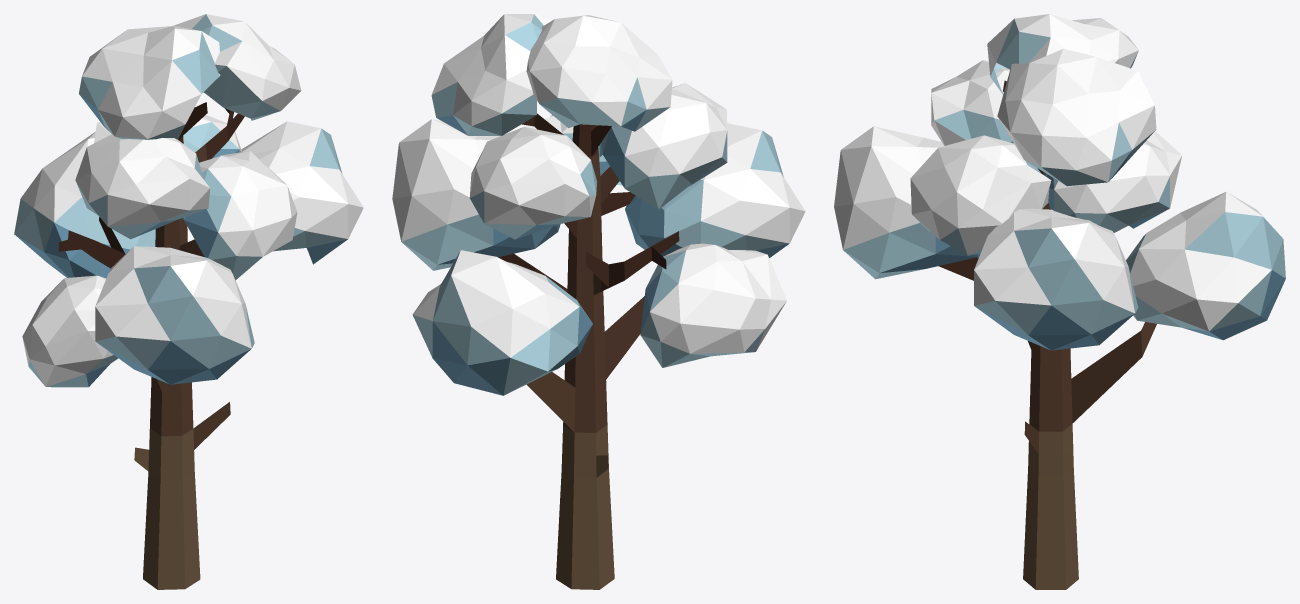
Rendered from treeOak1.fbx.
3 renders of one model, left to right at view 1: azimuth 30°, elevation 25°; view 2: azimuth 150°, elevation 25°; view 3: azimuth 270°, elevation 25°, orthographic. The views are drawn at different scales.
Visible parts, largest first — view 1: bushLarge_1, treeBase, bushTop_1, bushMedium, bushMedium_3, bushLarge, bushLarge_2, bushMedium_1, bushTop, bushMedium_2; view 2: treeBase, bushLarge_2, bushMedium_1, bushLarge_1, bushTop_1, bushLarge, bushMedium_2, bushMedium, bushTop; view 3: bushLarge, bushLarge_2, bushTop, treeBase, bushLarge_1, bushMedium_3, bushMedium_2, bushTop_1, bushMedium.
Boxes of the visible parts, x1,y1,x2,y2 form: bushLarge_1: (95, 246, 254, 384); treeBase: (58, 102, 244, 589); bushTop_1: (79, 26, 220, 139); bushMedium: (75, 134, 210, 239); bushMedium_3: (180, 151, 297, 280); bushLarge: (241, 121, 363, 264); bushLarge_2: (14, 132, 155, 278); bushMedium_1: (22, 275, 118, 387); bushTop: (173, 14, 301, 120); bushMedium_2: (94, 115, 241, 158); treeBase: (498, 113, 679, 589); bushLarge_2: (412, 250, 592, 395); bushMedium_1: (640, 243, 786, 367); bushLarge_1: (625, 123, 805, 257); bushTop_1: (526, 15, 672, 131); bushLarge: (392, 119, 560, 270); bushMedium_2: (469, 126, 596, 239); bushMedium: (599, 83, 727, 209); bushTop: (431, 14, 551, 135); bushLarge: (974, 208, 1138, 350); bushLarge_2: (1126, 191, 1285, 340); bushTop: (997, 48, 1156, 186); treeBase: (938, 80, 1156, 589); bushLarge_1: (834, 126, 980, 279); bushMedium_3: (910, 135, 1051, 255); bushMedium_2: (1045, 131, 1181, 232); bushTop_1: (987, 14, 1138, 94); bushMedium: (931, 60, 1013, 145).
Bounding box in the file's own units: 974 × 1537 × 1111.
2 materials, 2 textured.
